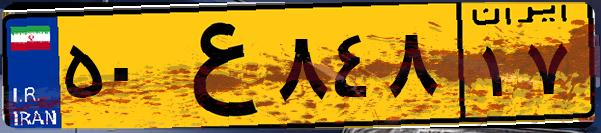0: (110, 28, 158, 98)
1: (475, 38, 525, 113)
4: (330, 28, 385, 110)
5: (57, 26, 110, 100)
7: (525, 38, 570, 115)
8: (270, 28, 330, 110), (385, 28, 445, 110)
ع: (158, 12, 270, 120)
